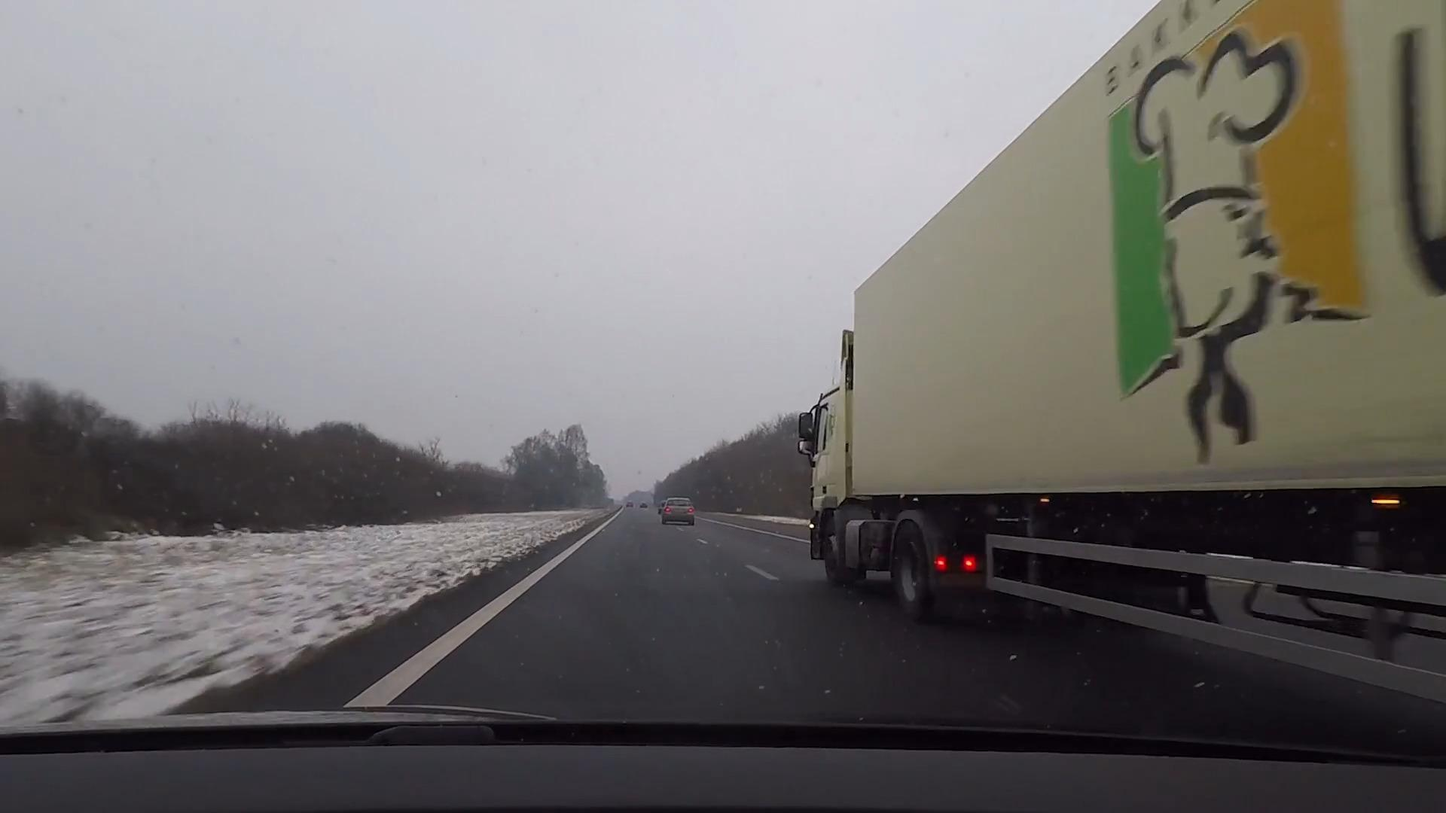Ice: (159, 504, 1445, 736)
Snow: (0, 508, 614, 726), (705, 510, 810, 528)
